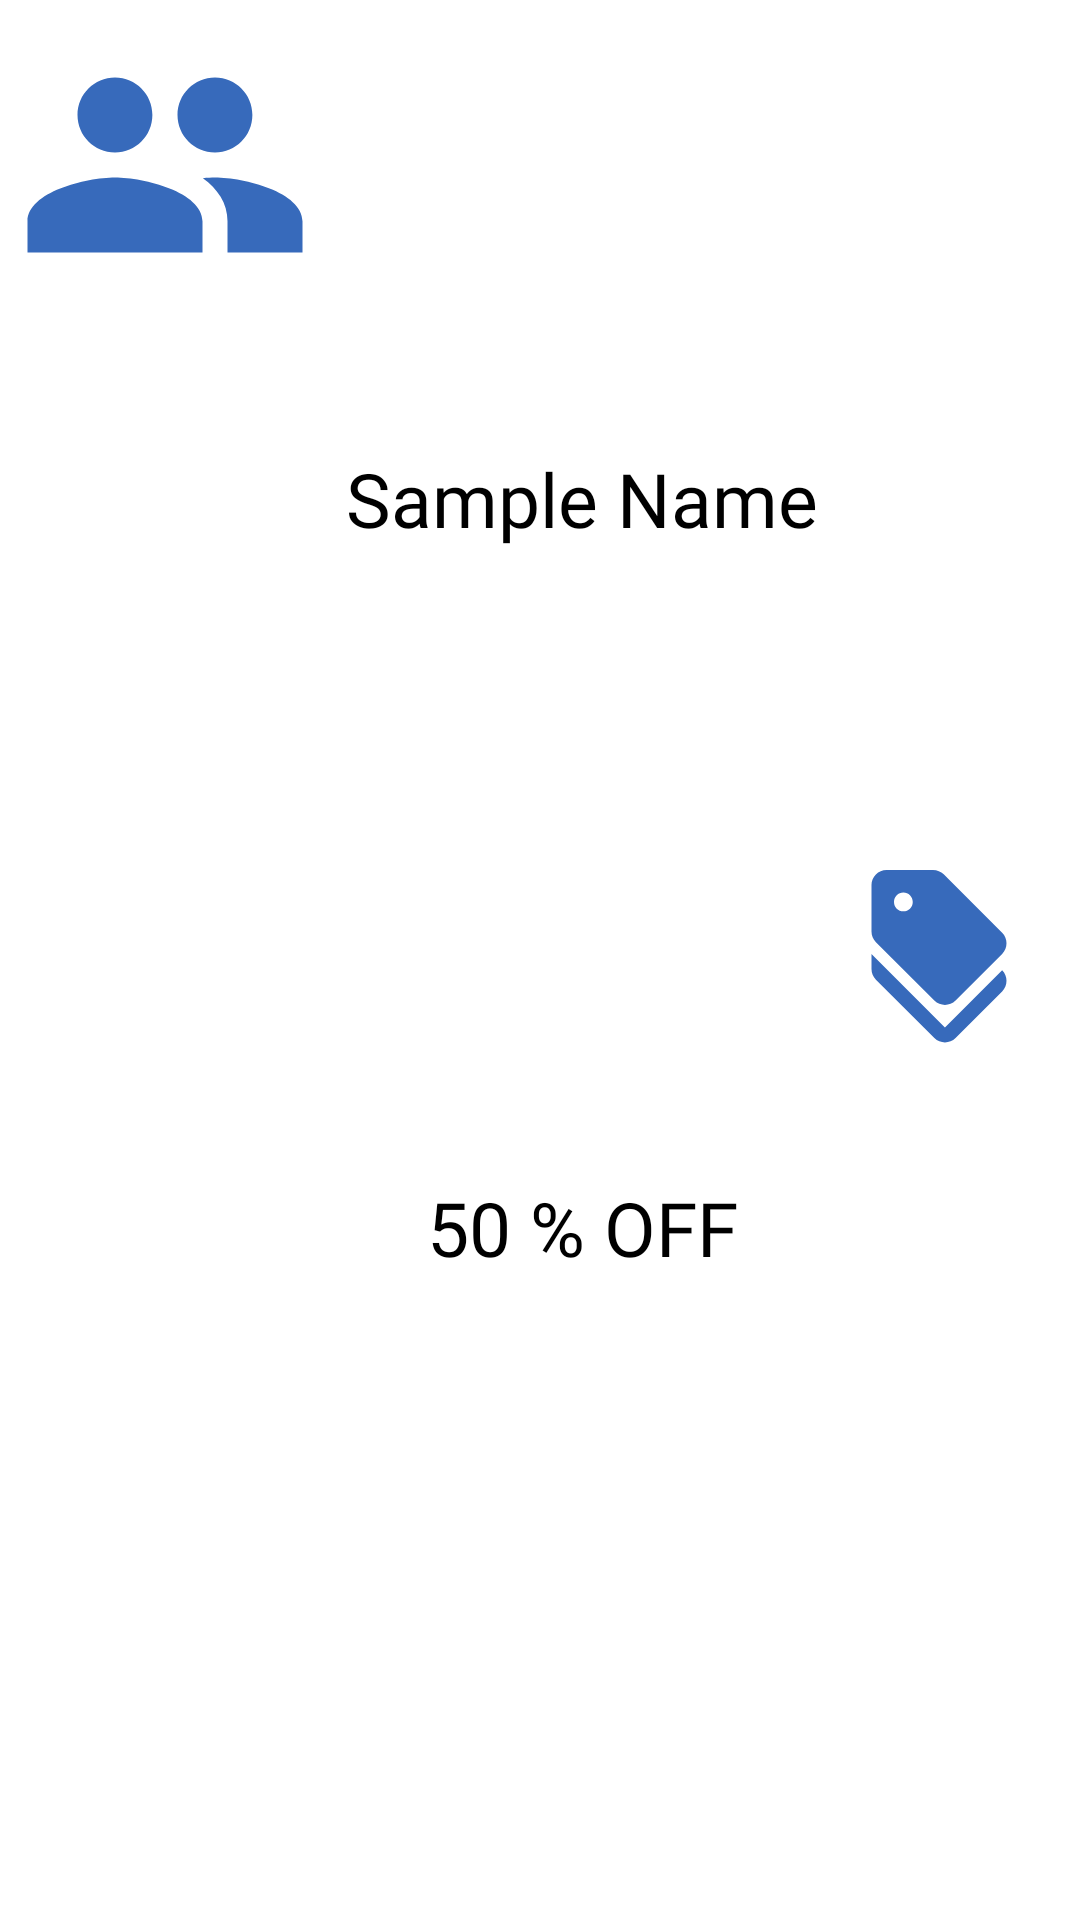

Screen size 1080px x 1920px. Icon name, then its box in pixels as {"left": x1, "top": y1, "right": x2, "bottom": y2}:
discount: {"left": 871, "top": 870, "right": 1007, "bottom": 1043}
